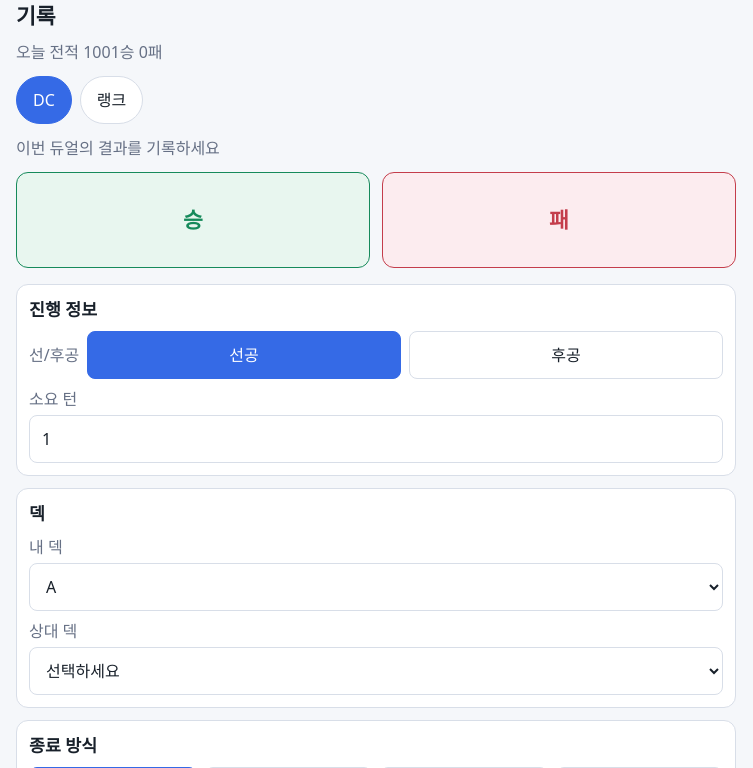
Test: 저장 영수증과 재시도 › 저장 후 조회 실패는 재생성하지 않고 확인된 ID만 취소한다
Check: the button "DC" is shown, box [16,76,72,124]
Click the button "승" at (193, 220), box [16,172,370,268]
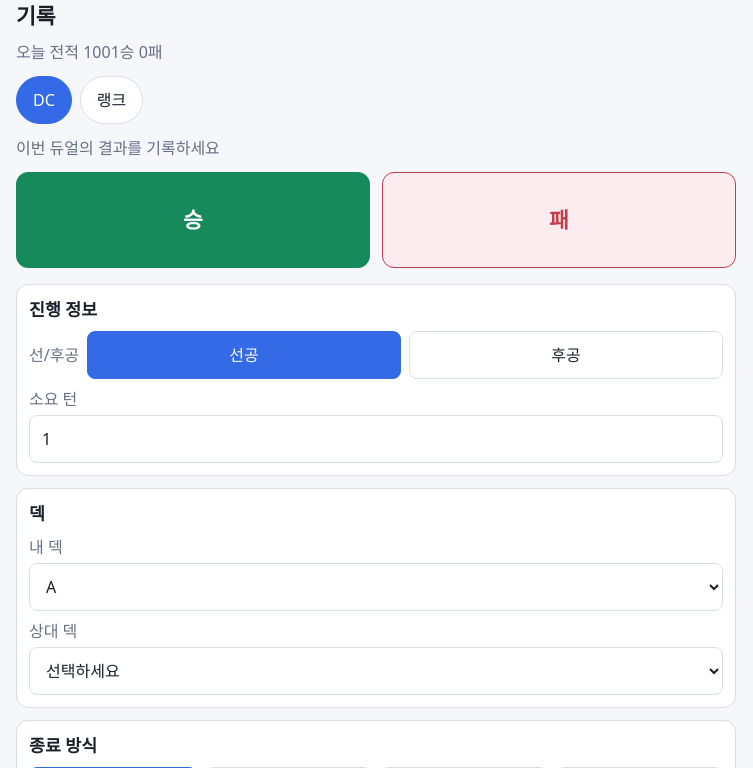
Select "B" in the dropdown labelled "상대 덱" at (376, 671), box [29,647,723,695]
(page scrolled)
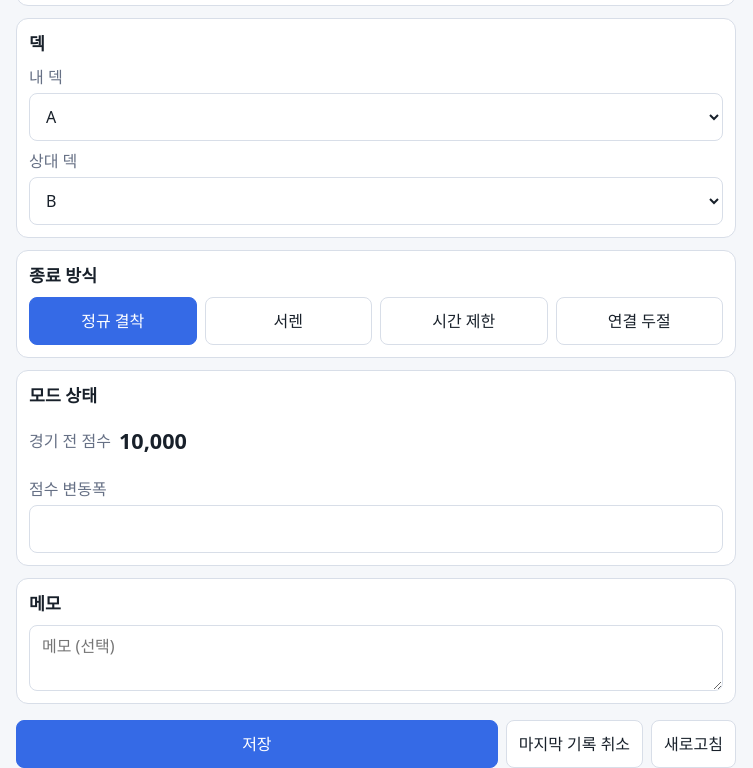
Type "100" into the number field labelled "점수 변동폭" at (376, 529), box [29,505,723,553]
(page scrolled)
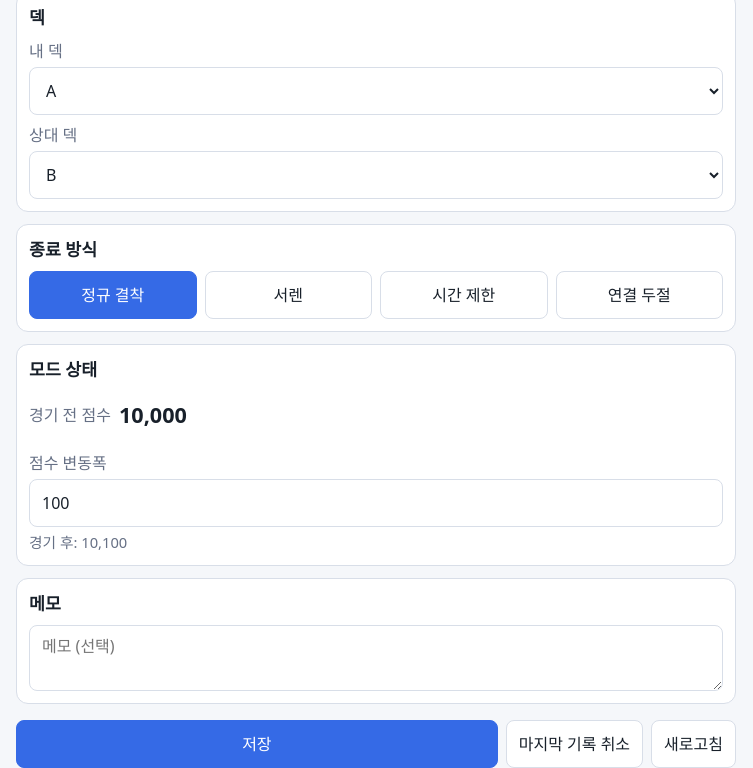
Click the button "저장" at (257, 744), box [16,720,498,767]
(page scrolled)
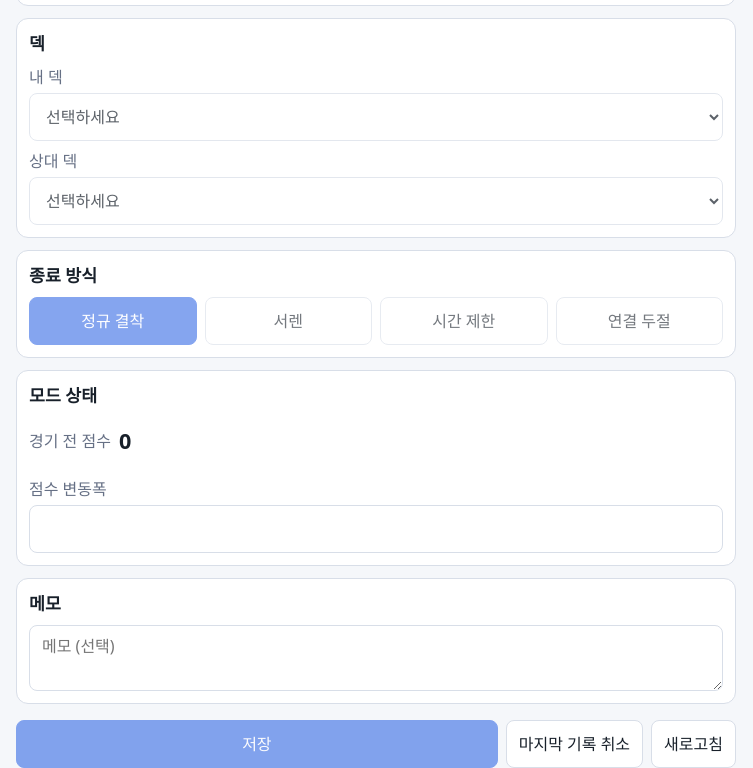
Check: the button "저장" is disabled, box [16,720,498,767]
Check: the number field labelled "점수 변동폭" is not empty, box [29,505,723,553]
Click the button "마지막 기록 취소" at (574, 744), box [506,720,643,767]
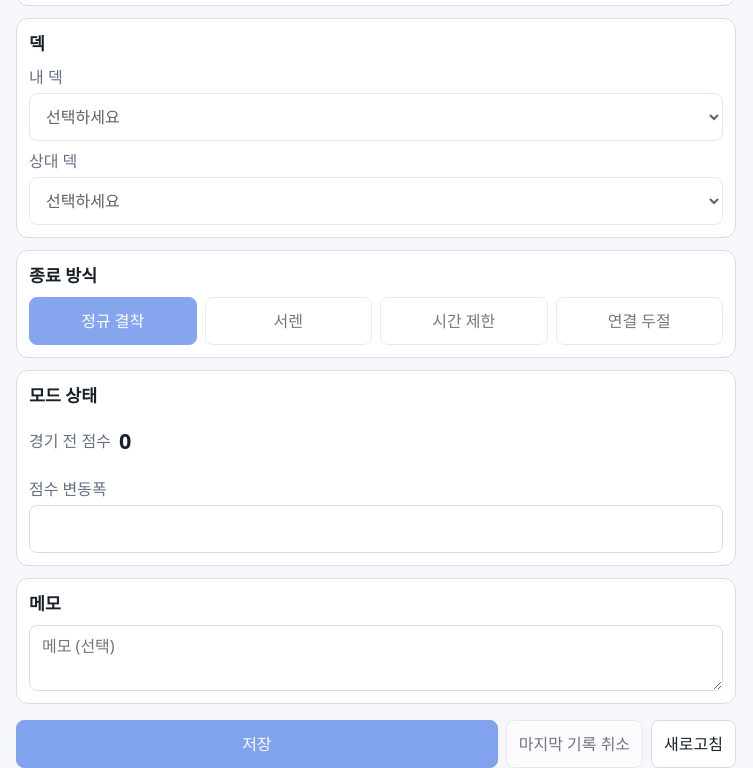
Check: the button "마지막 기록 취소" is disabled, box [506,720,643,767]
